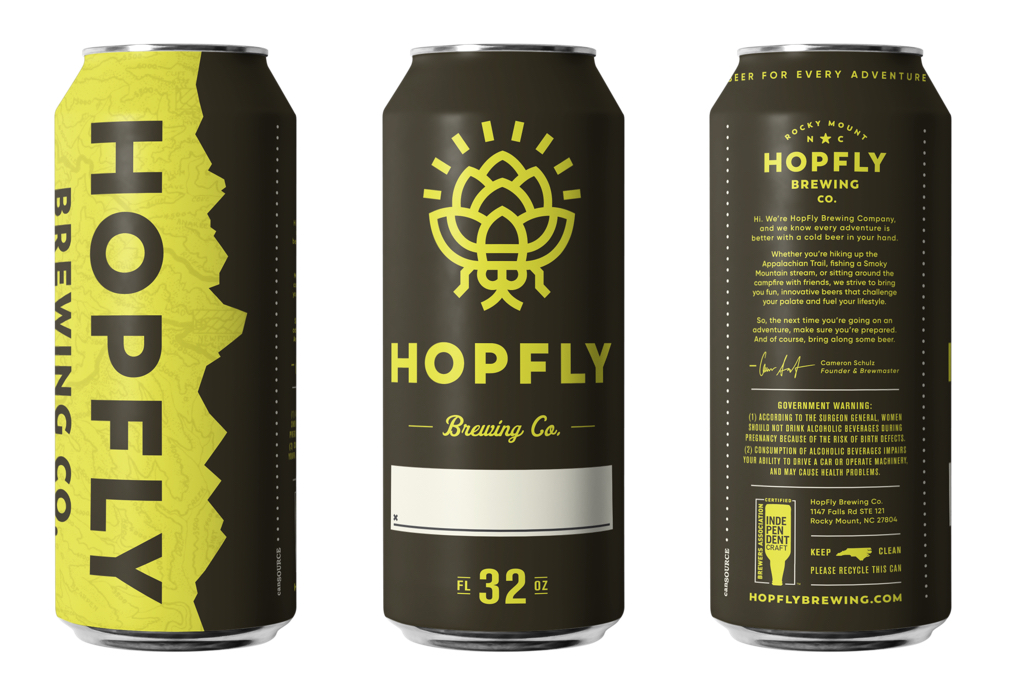beer can: (47, 42, 304, 655), (704, 44, 956, 652), (382, 42, 627, 652)
